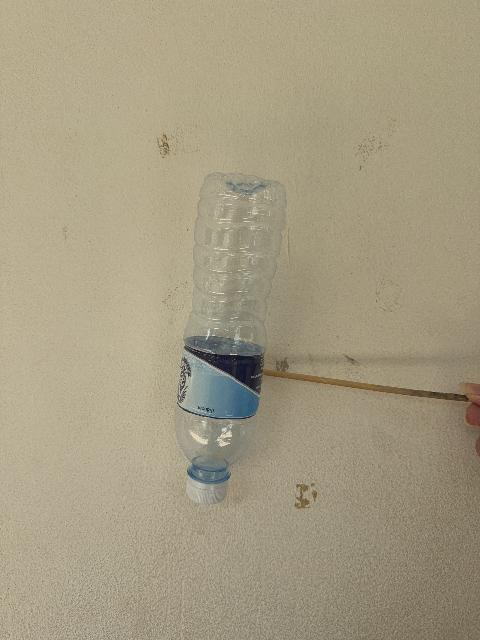bottle: (175, 173, 286, 503)
